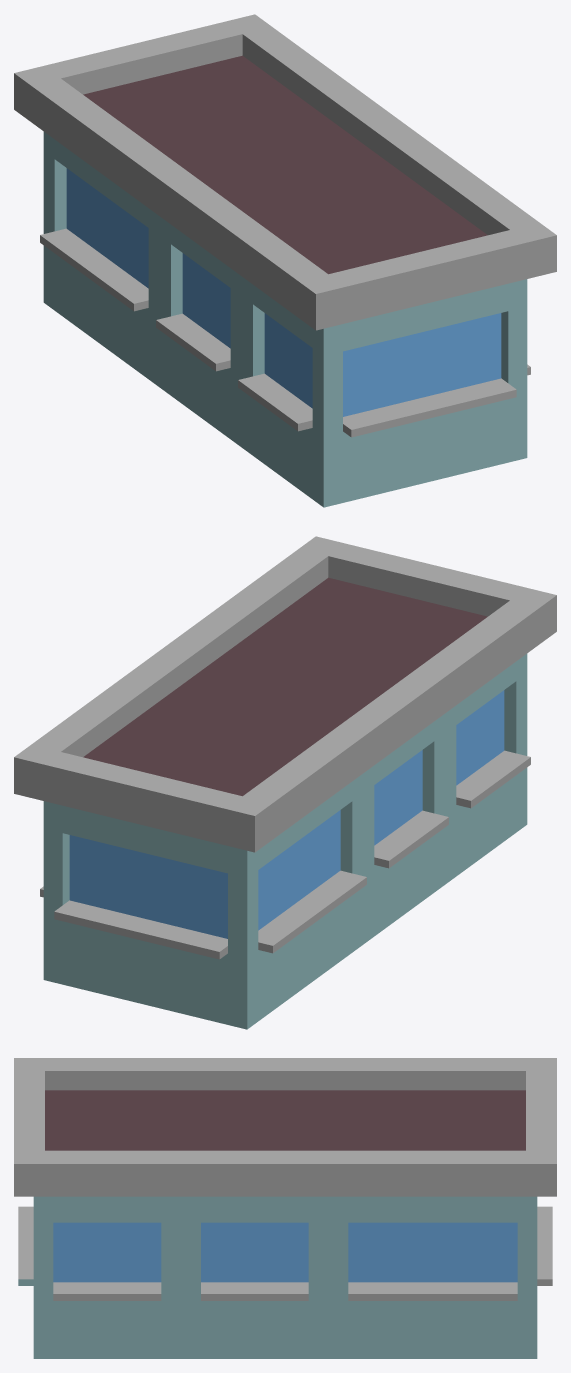
Rendered from building_1x2_2_r_blue.glb.
The picture shows the model from 3 angles, top to bottom: view 1: azimuth 30°, elevation 25°; view 2: azimuth 150°, elevation 25°; view 3: azimuth 270°, elevation 25°; orthographic projection. The views are drawn at different scales.
Parts seen in each view (by area): view 1: Cube.002; view 2: Cube.002; view 3: Cube.002.
Part boxes in pixels (left/top/right/bottom): Cube.002: left=14, top=14, right=556, bottom=507; Cube.002: left=14, top=536, right=556, bottom=1029; Cube.002: left=14, top=1058, right=556, bottom=1358.
Size of the model in its own units: 1.81 by 1.62 by 3.92.
